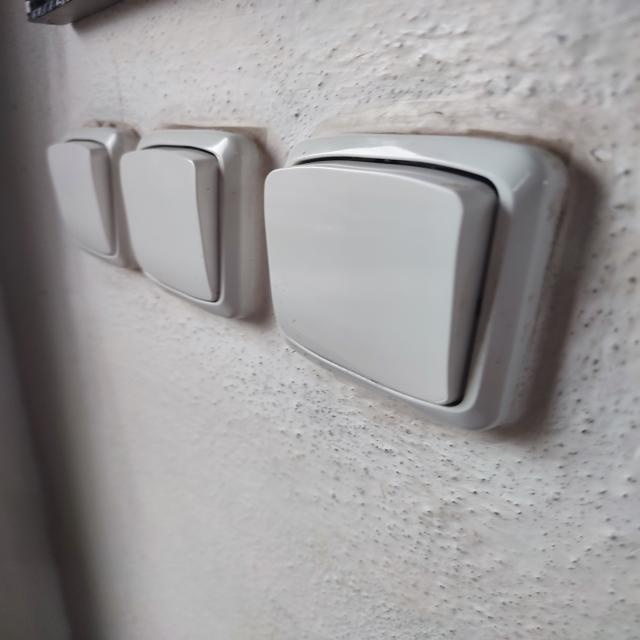house switch: (264, 133, 567, 431), (118, 127, 259, 319)
